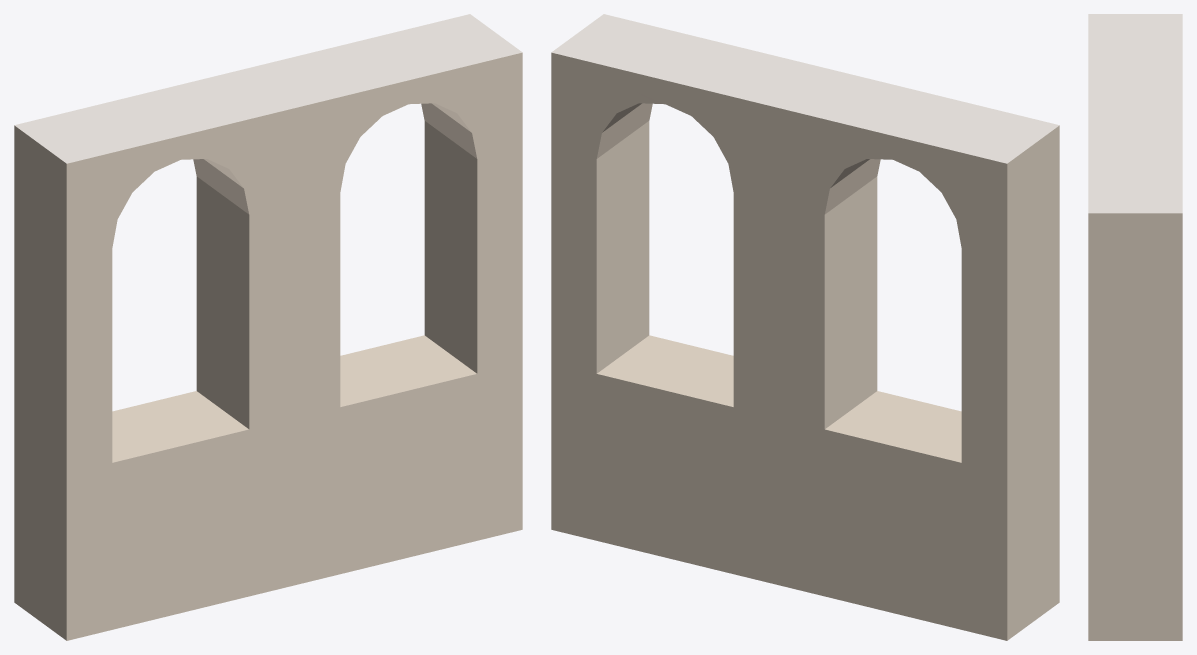
File: temple_Wall_Straight_Windows.glb
The picture shows the model from 3 angles, left to right: view 1: azimuth 30°, elevation 25°; view 2: azimuth 150°, elevation 25°; view 3: azimuth 270°, elevation 25°; orthographic projection. The views are drawn at different scales.
Visible parts, largest first — view 1: object1; view 2: object1; view 3: object1.
Boxes of the visible parts, <box> form: object1: <box>14,14,522,640</box>; object1: <box>551,14,1059,640</box>; object1: <box>1088,14,1182,640</box>.
Bounding box in the file's own units: 1 × 1 × 0.2.
